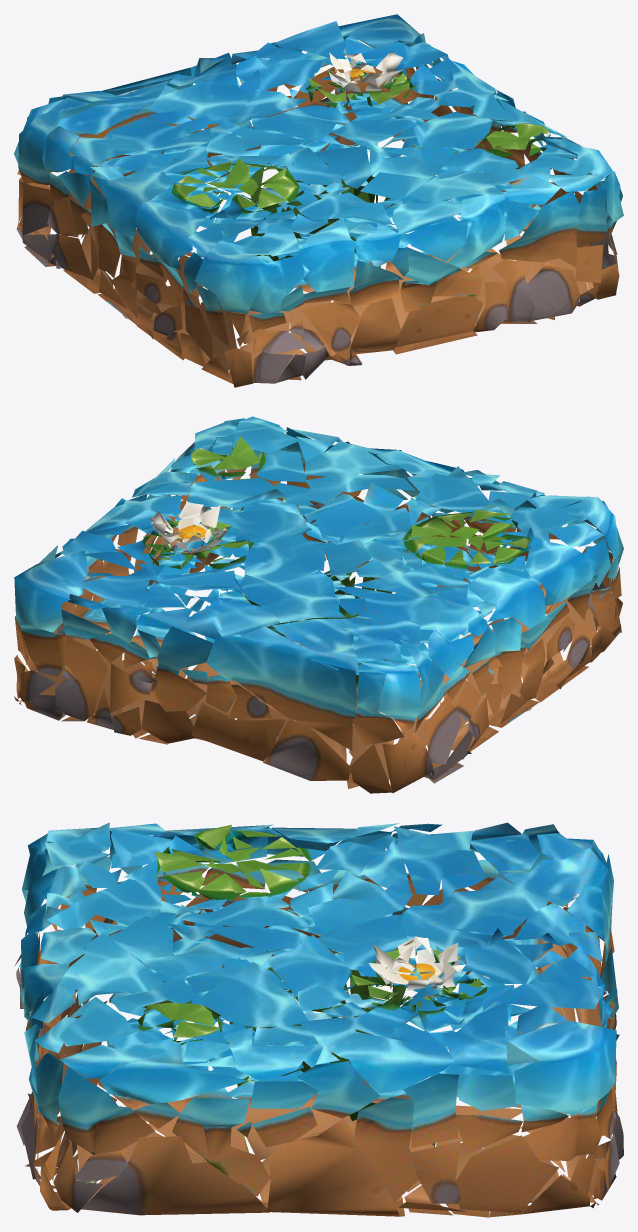
File: lotus-water.glb
The picture shows the model from 3 angles, top to bottom: view 1: azimuth 30°, elevation 25°; view 2: azimuth 150°, elevation 25°; view 3: azimuth 270°, elevation 25°; orthographic projection. The views are drawn at different scales.
Parts seen in each view (by area): view 1: Mesh_0; view 2: Mesh_0; view 3: Mesh_0.
Part boxes in pixels (x1=…): Mesh_0: x1=14, y1=14, x2=623, y2=387; Mesh_0: x1=14, y1=416, x2=623, y2=793; Mesh_0: x1=15, y1=822, x2=623, y2=1217.
Bounding box in the file's own units: 1.9 × 0.6916 × 1.9.
Materials: 1 (1 with a texture image).
